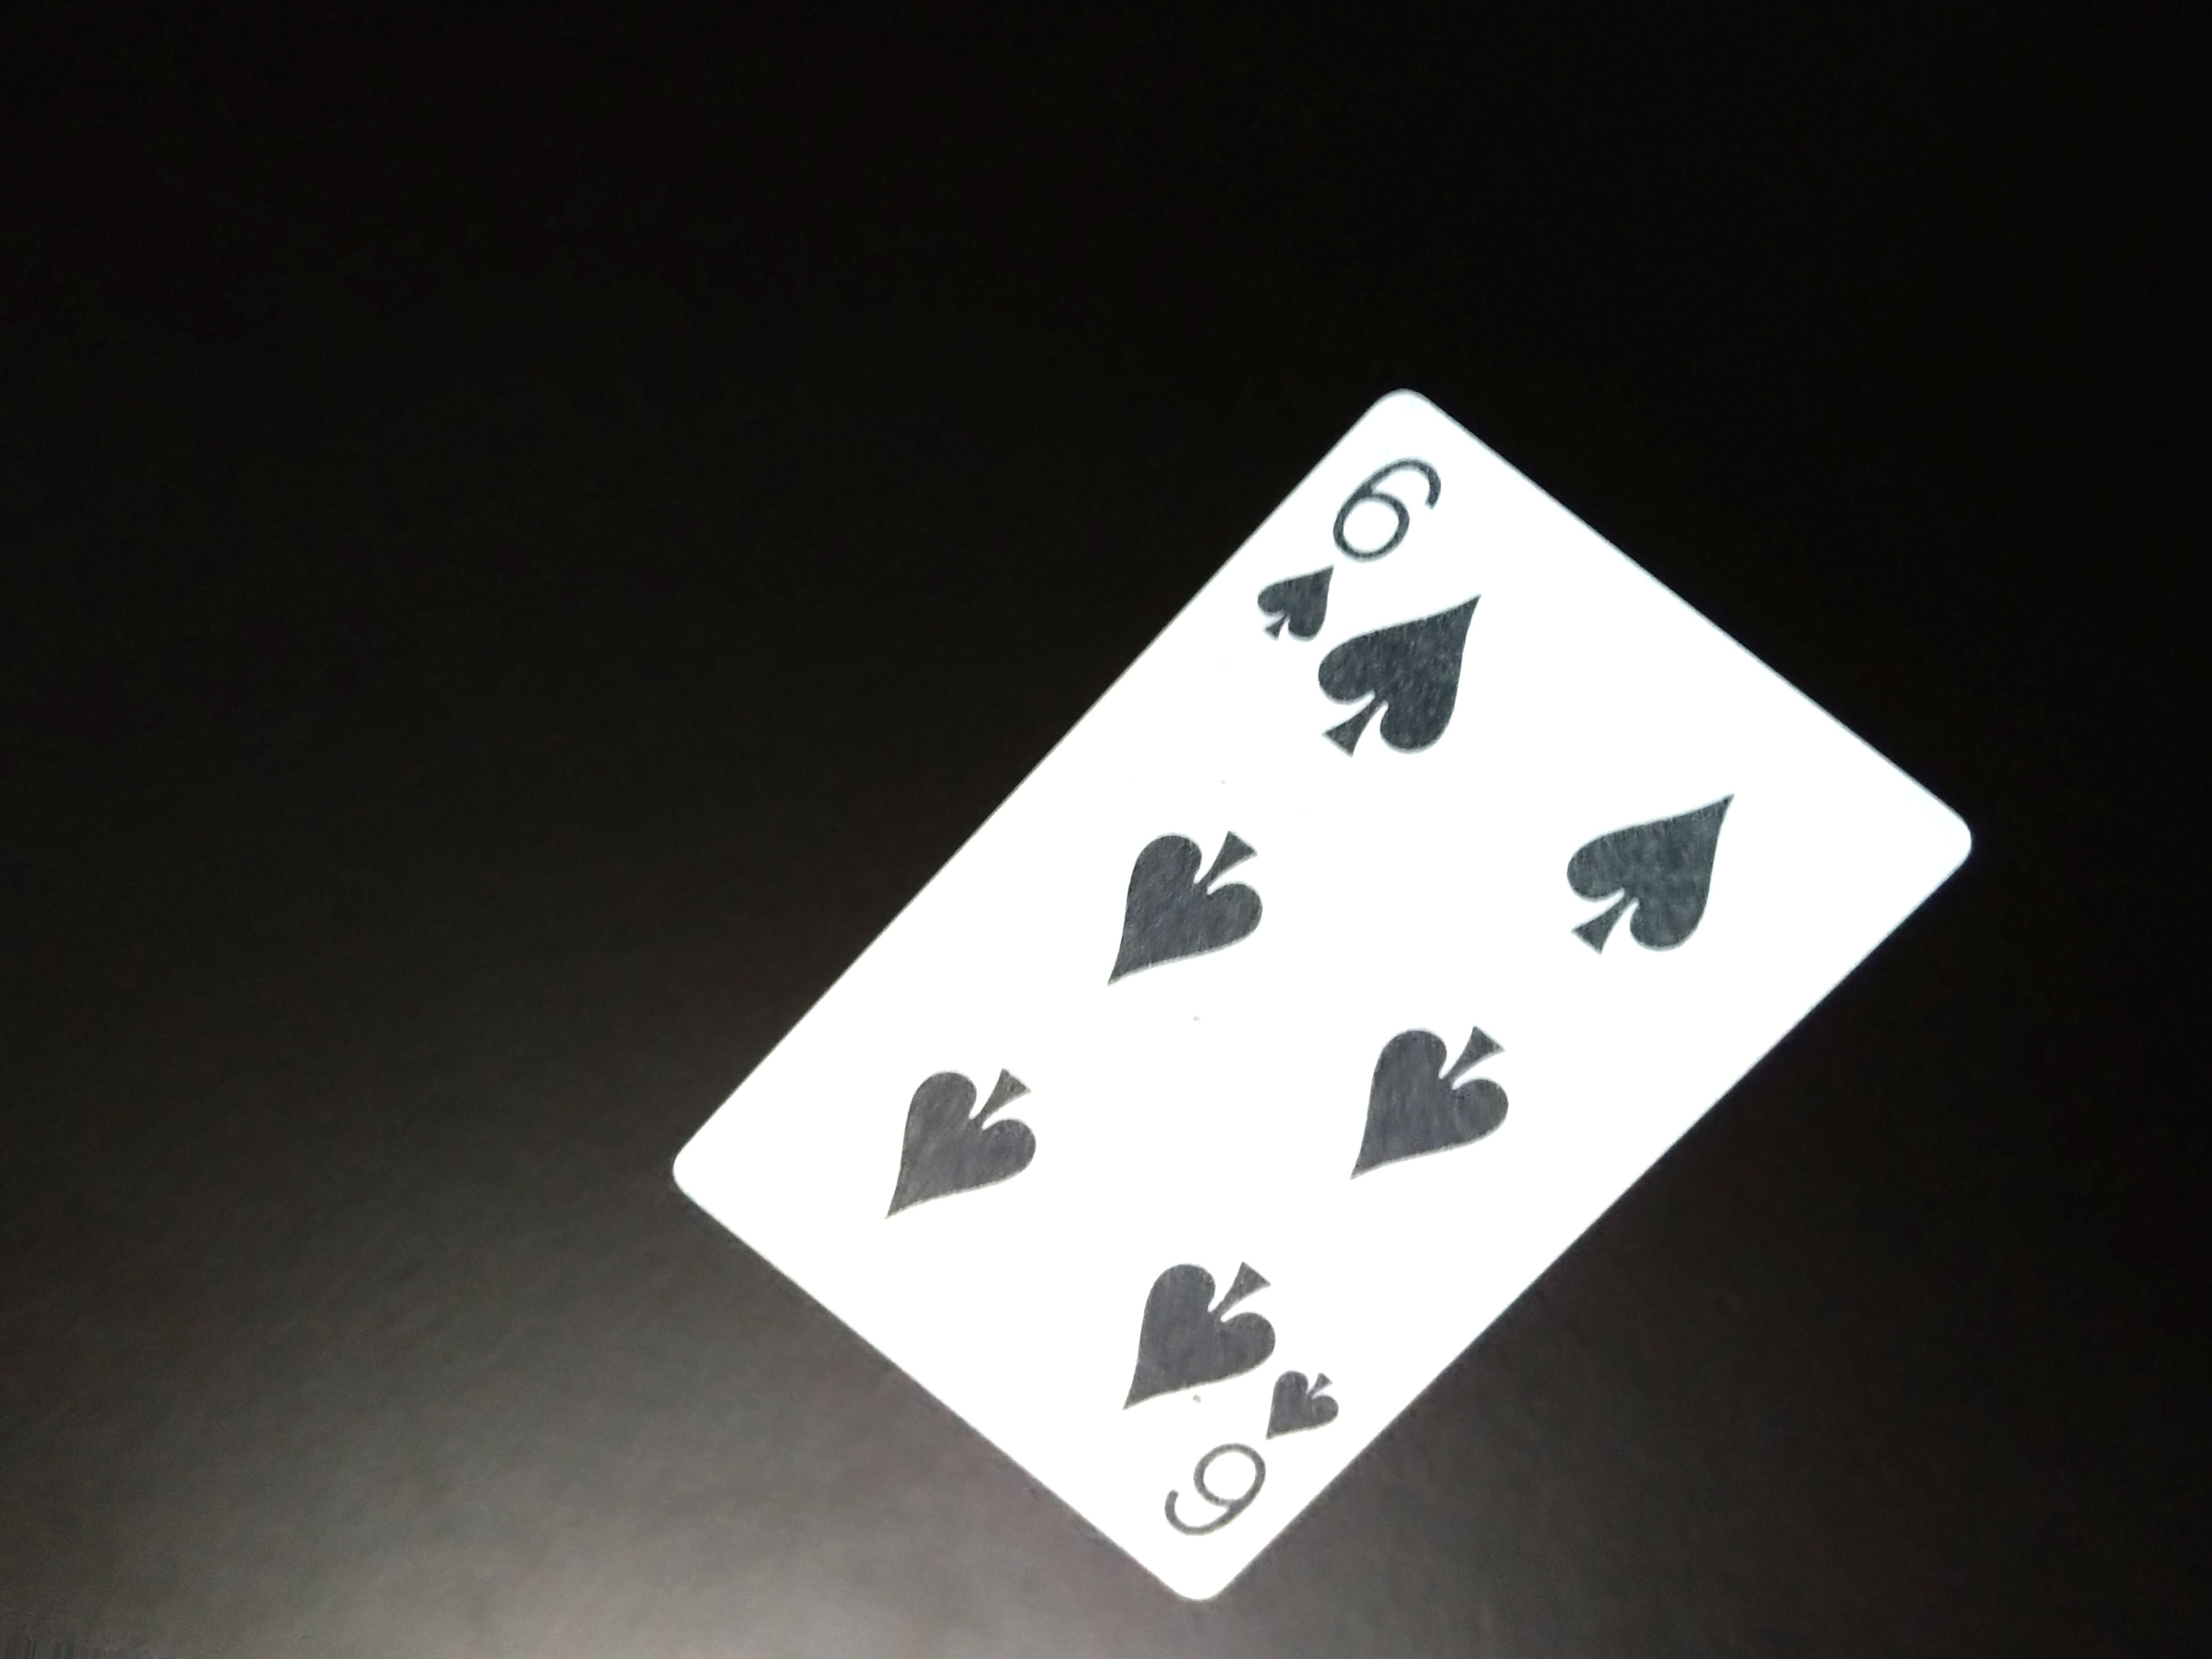6S: (1244, 446, 1444, 660)
